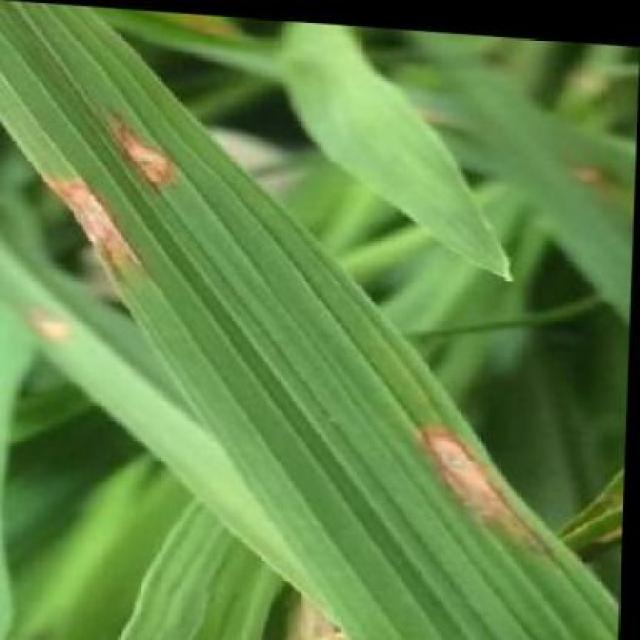Bacterial_Leaf_Blight: (380, 391, 568, 566), (15, 152, 163, 296), (80, 94, 203, 203)
